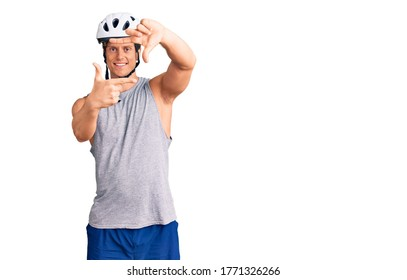helmet: (95, 12, 144, 79)
